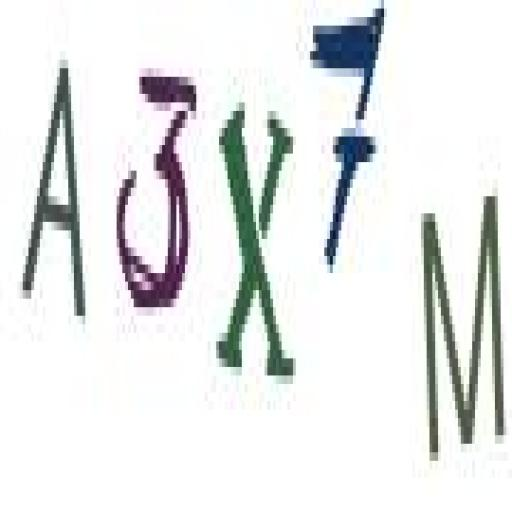3: (114, 54, 198, 327)
7: (302, 8, 393, 286)
A: (16, 49, 90, 339)
M: (415, 179, 509, 464)
X: (210, 87, 296, 400)
